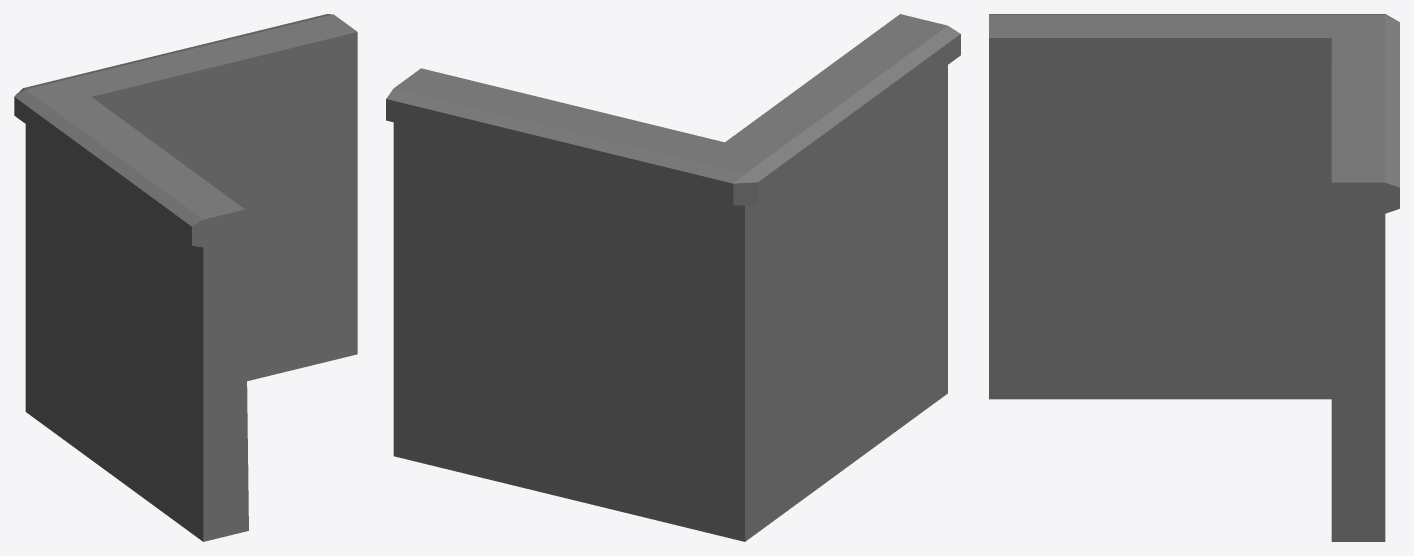
Rendered from Stone Wall 2.fbx.
3 renders of one model, left to right at view 1: azimuth 30°, elevation 25°; view 2: azimuth 150°, elevation 25°; view 3: azimuth 270°, elevation 25°, orthographic. The views are drawn at different scales.
Parts seen in each view (by area): view 1: Stone_Wall_2; view 2: Stone_Wall_2; view 3: Stone_Wall_2.
Boxes of the visible parts, x1,y1,x2,y2 form: Stone_Wall_2: [14, 14, 357, 541]; Stone_Wall_2: [386, 14, 960, 541]; Stone_Wall_2: [989, 14, 1399, 541].
Size of the model in its own units: 4.2 by 4.05 by 4.2.
